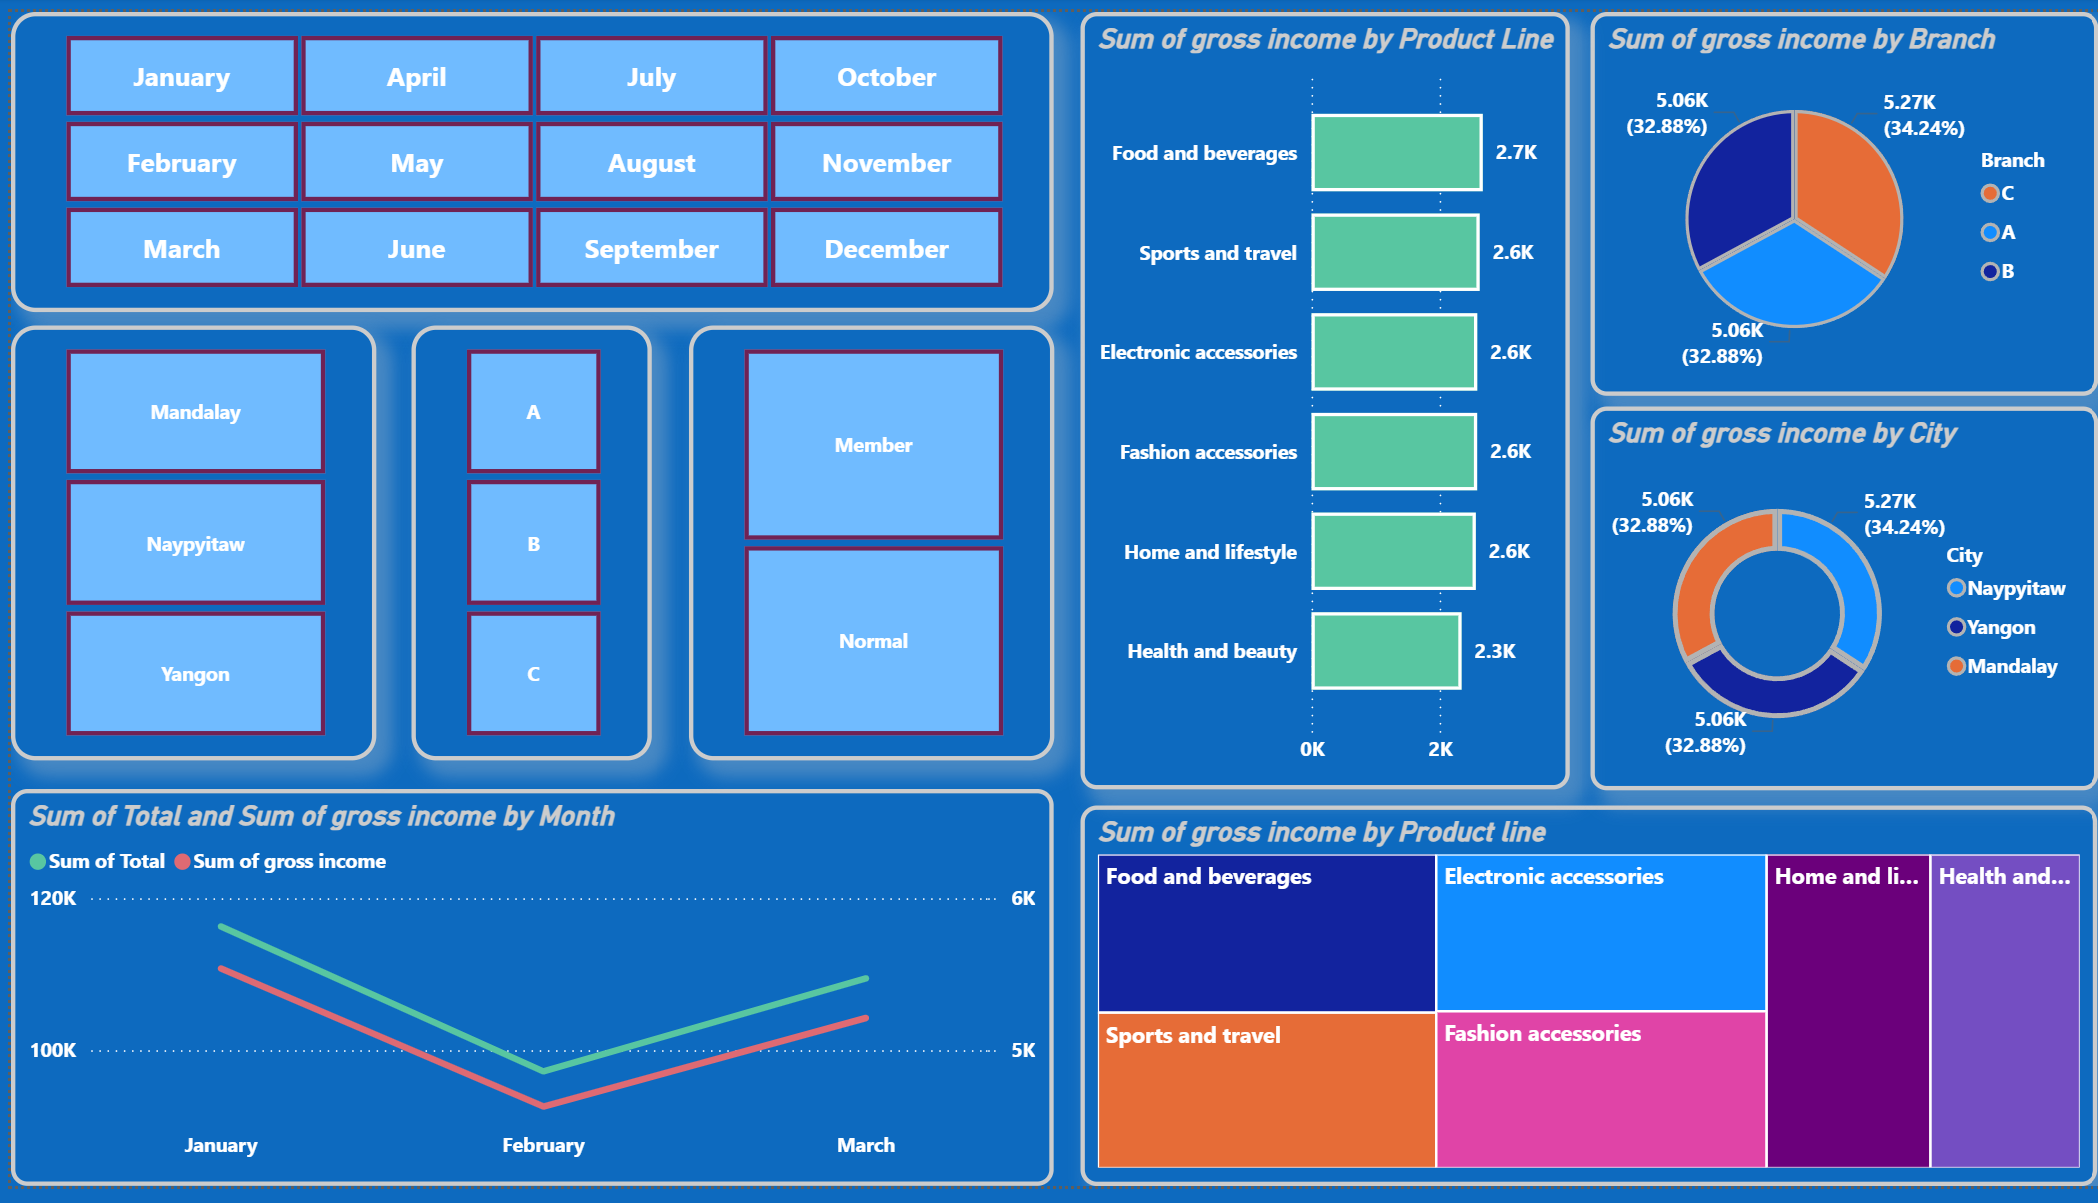

What the dashboard file says about the page in this screenshot:
{"tool":"powerbi","page":{"name":"The Gross Income Dashboard","canvas":[1280,720],"ordinal":2},"visuals":[{"type":"pieChart","title":"Sum of gross income by Branch","fields":{"Category":["supermarket_sales.Branch"],"Y":["Sum(supermarket_sales.gross income)"]},"box":[968.3,0,311.7,235.2],"z":0},{"type":"treemap","title":"Sum of gross income by Product line","fields":{"Group":["supermarket_sales.Product line"],"Values":["Sum(supermarket_sales.gross income)"]},"box":[655.7,486.2,624.3,233.7],"z":1000},{"type":"donutChart","title":"Sum of gross income by City","fields":{"Category":["supermarket_sales.City"],"Y":["Sum(supermarket_sales.gross income)"]},"box":[968.3,242.2,311.7,235.2],"z":2000},{"type":"clusteredBarChart","title":"Sum of gross income by Product Line","fields":{"Category":["supermarket_sales.Product line"],"Y":["Sum(supermarket_sales.gross income)"]},"box":[656.1,0,299.7,476.8],"z":3000},{"type":"slicer","fields":{"Values":["supermarket_sales.Date.Variation.Date Hierarchy.Month"]},"box":[0,0,639.6,184.1],"z":4000},{"type":"lineChart","title":"Sum of Total and Sum of gross income by Month","fields":{"Category":["supermarket_sales.Date.Variation.Date Hierarchy.Month"],"Y":["Sum(supermarket_sales.Total)"],"Y2":["Sum(supermarket_sales.gross income)"]},"box":[0,476.8,639.6,243.1],"z":5000},{"type":"slicer","fields":{"Values":["supermarket_sales.City"]},"box":[0,192.4,224.2,266.7],"z":6000},{"type":"slicer","fields":{"Values":["supermarket_sales.Branch"]},"box":[245.5,192.4,147.5,266.7],"z":7000},{"type":"slicer","fields":{"Values":["supermarket_sales.Customer type"]},"box":[415.4,192.4,224.2,266.7],"z":8000}]}

Visuals, with their boxes in screenshot pixels (x1, y1, x2, y2), scaled from the page's 1280x720 canvas onto the 2098x1203 screenshot:
"Sum of gross income by Branch" pieChart: <bbox>1587, 0, 2097, 393</bbox>
"Sum of gross income by Product line" treemap: <bbox>1075, 812, 2097, 1202</bbox>
"Sum of gross income by City" donutChart: <bbox>1587, 405, 2097, 798</bbox>
"Sum of gross income by Product Line" clusteredBarChart: <bbox>1075, 0, 1567, 797</bbox>
slicer - supermarket_sales.Date.Variation.Date Hierarchy.Month: <bbox>0, 0, 1048, 308</bbox>
"Sum of Total and Sum of gross income by Month" lineChart: <bbox>0, 797, 1048, 1202</bbox>
slicer - supermarket_sales.City: <bbox>0, 321, 367, 767</bbox>
slicer - supermarket_sales.Branch: <bbox>402, 321, 644, 767</bbox>
slicer - supermarket_sales.Customer type: <bbox>681, 321, 1048, 767</bbox>
